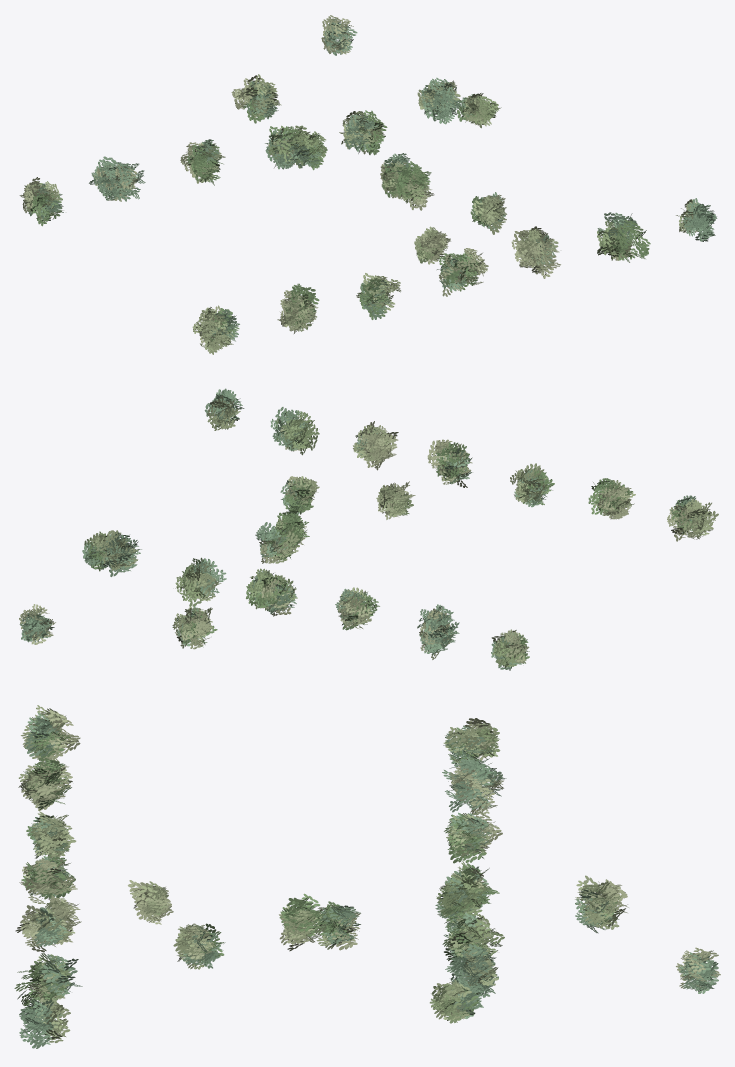
Rendered from campus-tree--5_-1-far.glb.
The picture shows the model from 3 angles, top to bottom: view 1: azimuth 30°, elevation 25°; view 2: azimuth 150°, elevation 25°; view 3: azimuth 270°, elevation 25°; orthographic projection. The views are drawn at different scales.
Visible parts, largest first — view 1: Campus leaf canopy; view 2: Campus leaf canopy; view 3: Campus leaf canopy.
Part boxes in pixels (bbox=[...]): Campus leaf canopy: bbox=[19, 15, 717, 354]; Campus leaf canopy: bbox=[19, 388, 718, 670]; Campus leaf canopy: bbox=[14, 705, 720, 1048].
Bounding box in the file's own units: 73 × 7.76 × 71.77.
1 material, 1 textured.
